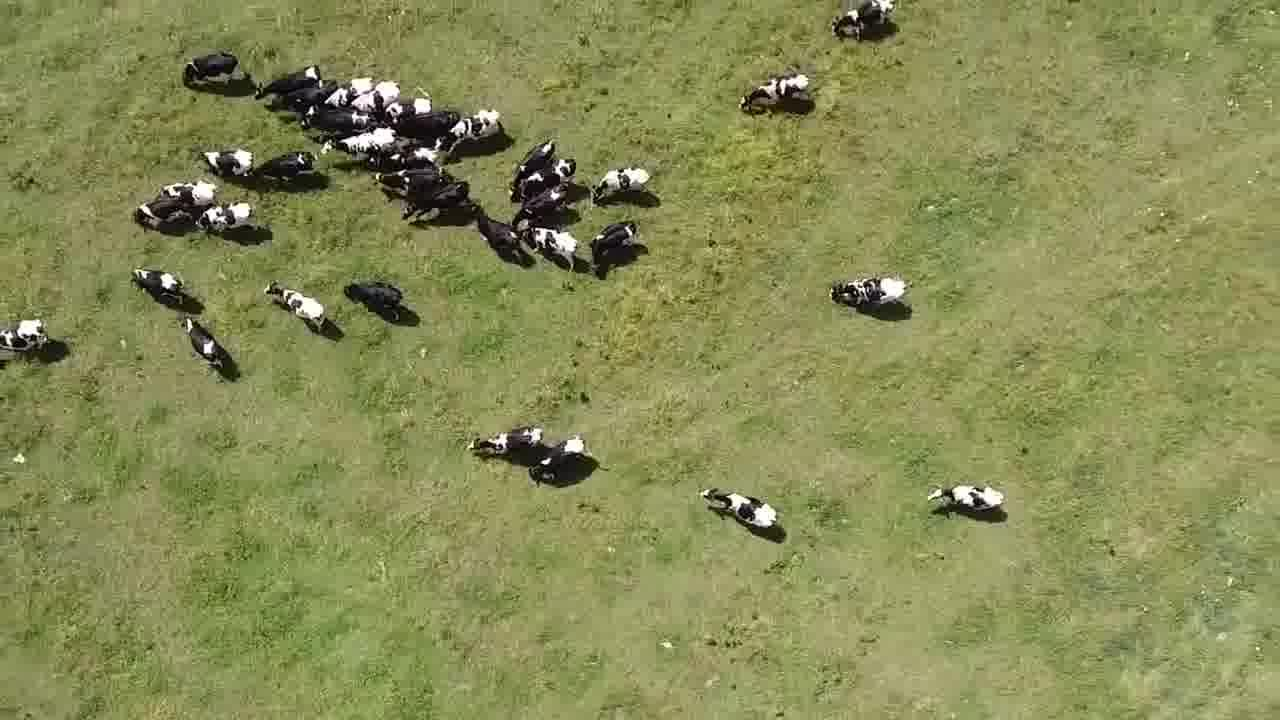cow: (260, 276, 333, 334), (924, 474, 1007, 525), (699, 484, 782, 535), (831, 268, 913, 318), (737, 69, 811, 120), (433, 108, 507, 158), (503, 132, 563, 193), (399, 180, 475, 228), (827, 0, 904, 43), (508, 153, 583, 196), (338, 277, 408, 323), (528, 438, 592, 488), (508, 183, 575, 229), (319, 124, 407, 159), (181, 313, 229, 375), (126, 262, 190, 308), (589, 216, 643, 270), (462, 422, 544, 457), (522, 228, 581, 275), (0, 314, 52, 367), (590, 165, 653, 208), (196, 201, 265, 240), (472, 208, 522, 258), (177, 48, 239, 87), (254, 63, 324, 97), (132, 194, 190, 234), (192, 145, 258, 178), (297, 103, 375, 130), (346, 77, 406, 112), (321, 73, 377, 109), (374, 165, 455, 189), (260, 151, 318, 182), (156, 176, 220, 204), (375, 96, 436, 124)
